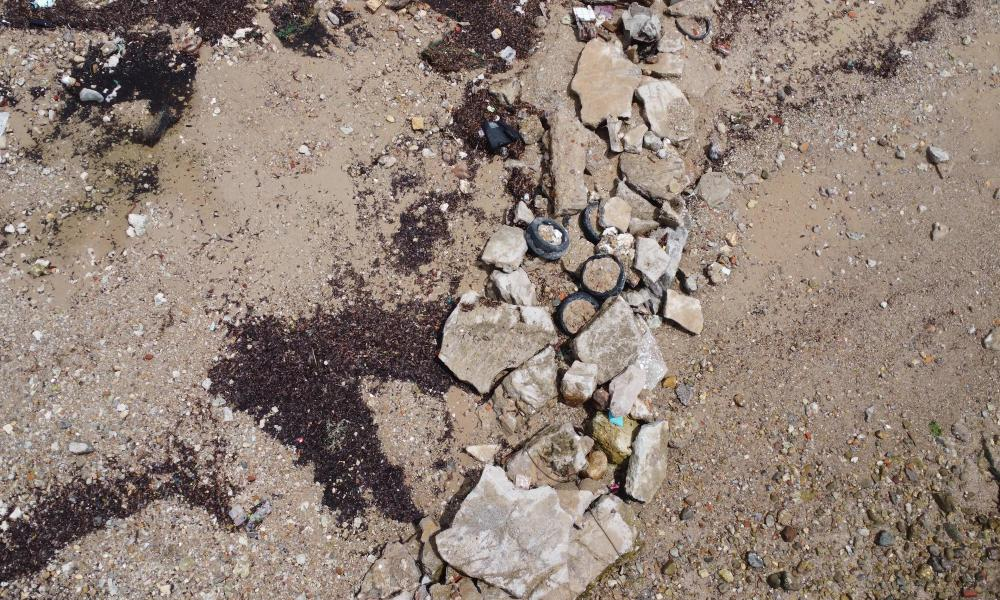tire: (580, 252, 625, 305), (552, 294, 601, 334), (524, 220, 568, 257), (580, 193, 596, 245), (676, 12, 710, 36)
